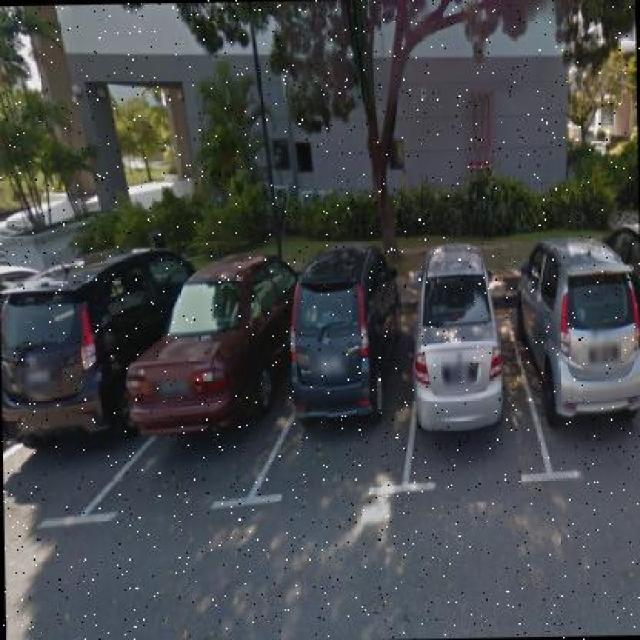Car: (115, 218, 299, 458), (1, 219, 193, 437), (271, 226, 397, 457), (520, 220, 637, 420), (409, 229, 507, 435)
